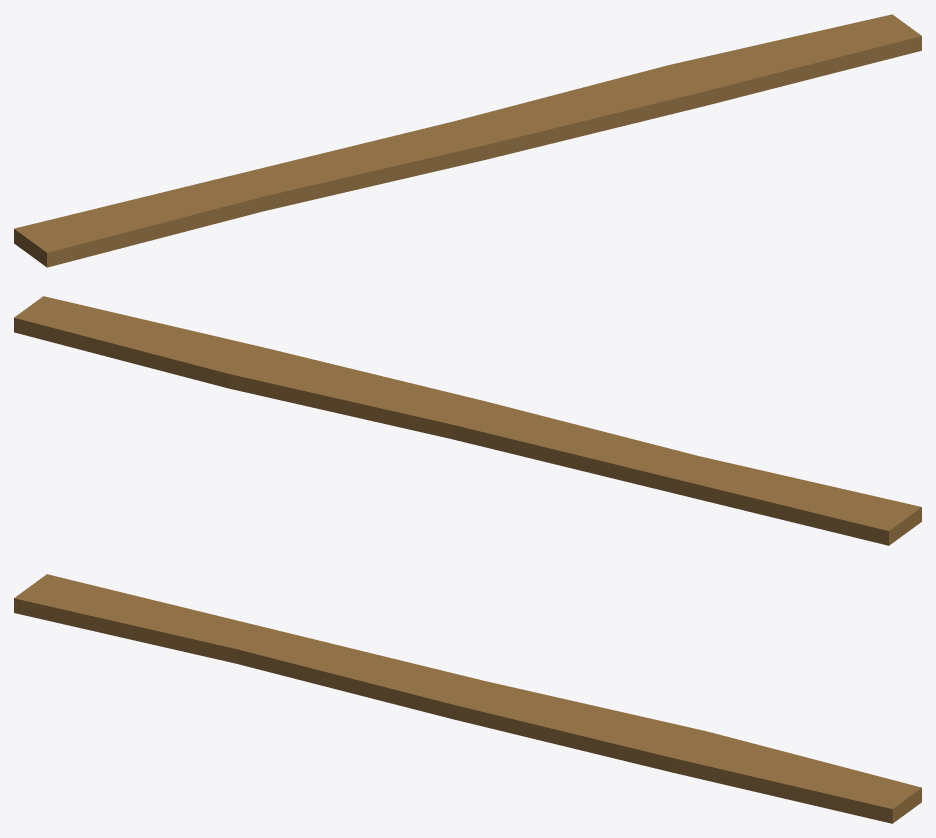
The model's file is board.fbx.
3 views of the same model, one above another, from view 1: azimuth 30°, elevation 25°; view 2: azimuth 150°, elevation 25°; view 3: azimuth 330°, elevation 25° (orthographic).
Visible parts, largest first — view 1: plank; view 2: plank; view 3: plank.
Boxes of the visible parts, x1,y1,x2,y2 form: plank: (14,14,921,267); plank: (14,296,921,545); plank: (14,574,921,823).
Size of the model in its own units: 772 by 12.38 by 56.35.
